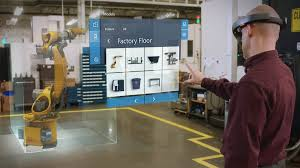hololens: (231, 14, 288, 42)
